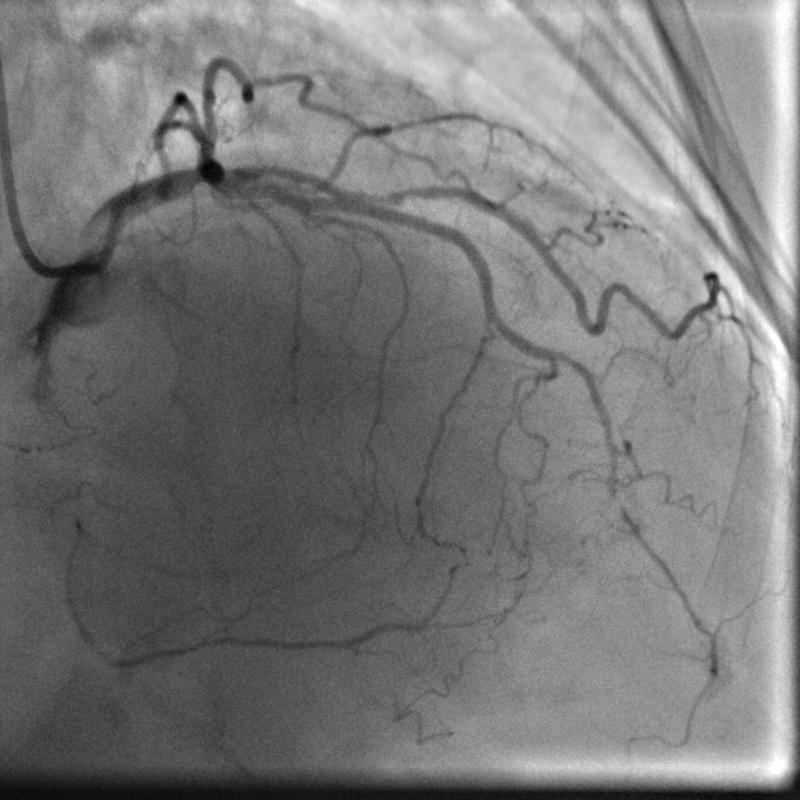Stenosis: (363, 172, 440, 211)
